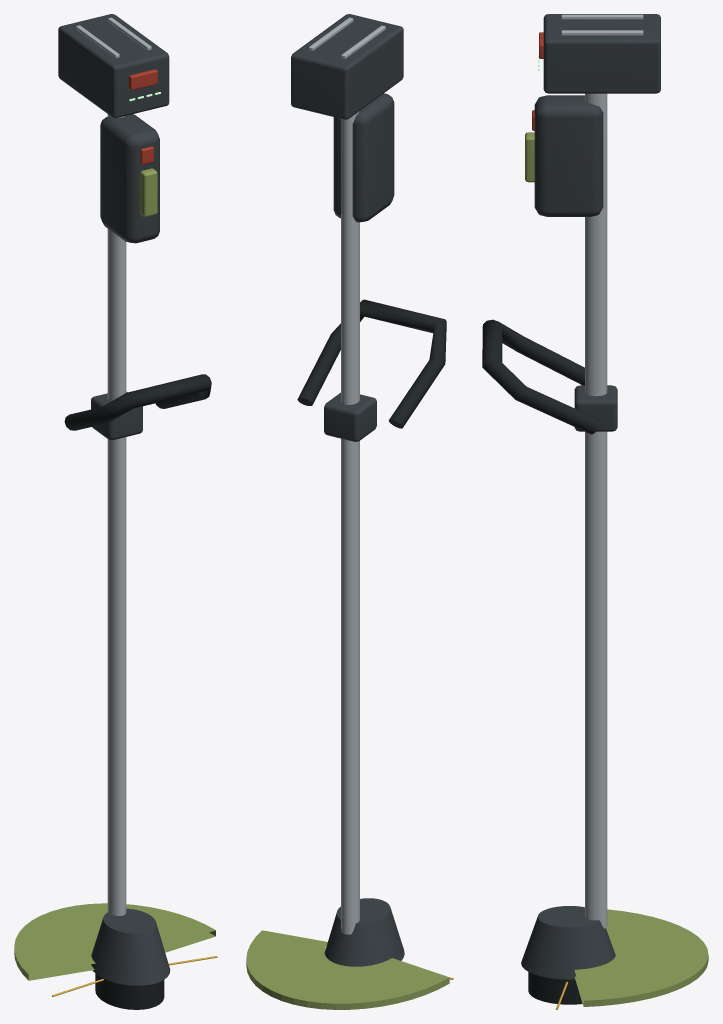
The model's file is garage-string-trimmer.glb.
3 views of the same model, side by side, from view 1: azimuth 30°, elevation 25°; view 2: azimuth 150°, elevation 25°; view 3: azimuth 270°, elevation 25° (orthographic). The views are drawn at different scales.
Visible parts, largest first — view 1: catalog_surface_RealismUV; view 2: catalog_surface_RealismUV; view 3: catalog_surface_RealismUV.
Part boxes in pixels (bbox=[...]): catalog_surface_RealismUV: bbox=[14, 14, 217, 1009]; catalog_surface_RealismUV: bbox=[246, 14, 453, 1009]; catalog_surface_RealismUV: bbox=[482, 14, 708, 1009].
Bounding box in the file's own units: 0.35 × 1.7 × 0.36.
